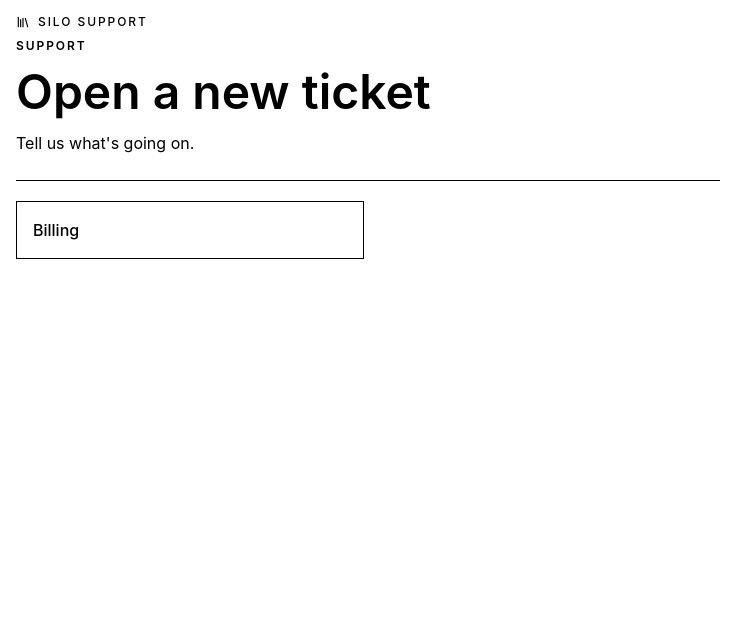
Test: TKNew › walks category → form → submit → confirmation with tracking number
The width and height of the screenshot is (737, 638).
Check: the text "Billing" is shown, box [33,220,79,240]
# category picker appears after categories load
Click the button "Billing" at (56, 230), box [16,201,364,259]
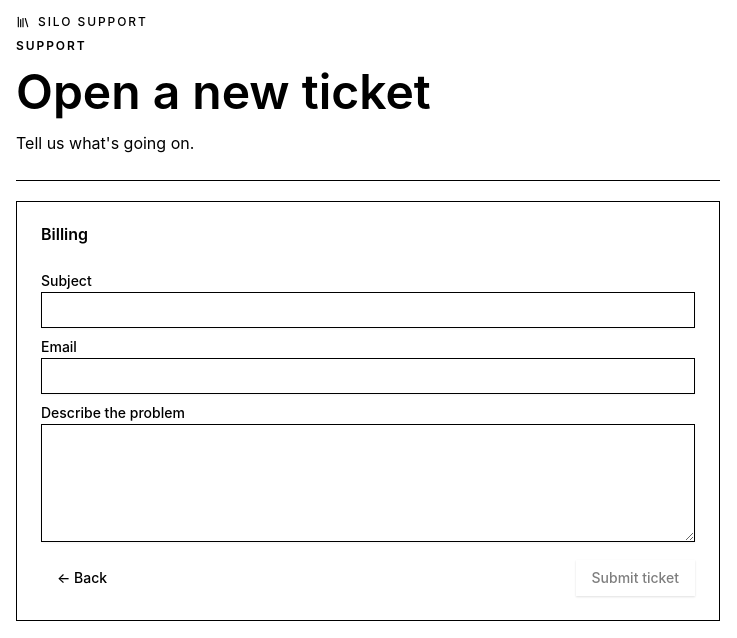
# form (no subcategories for this category, so we jump straight to form)
Type "Need help" into the field labelled "Subject" at (368, 310), box [41,292,695,328]
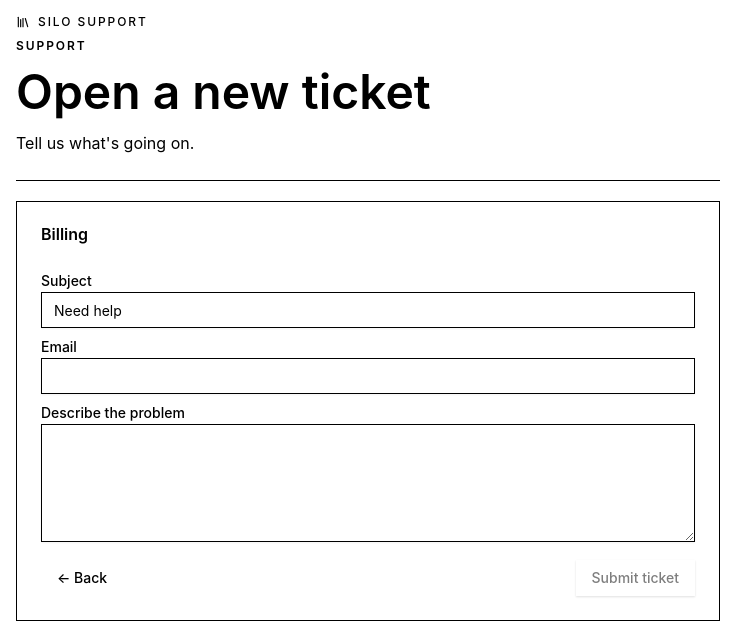
Type "u@example.com" into the field labelled "Email" at (368, 376), box [41,358,695,394]
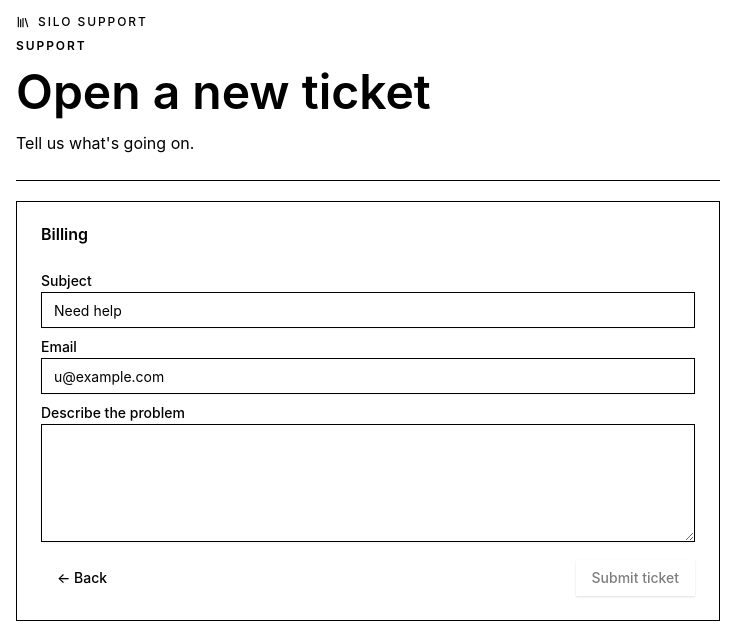
Type "There's a problem." into the text box labelled "Describe the problem" at (368, 483), box [41,424,695,542]
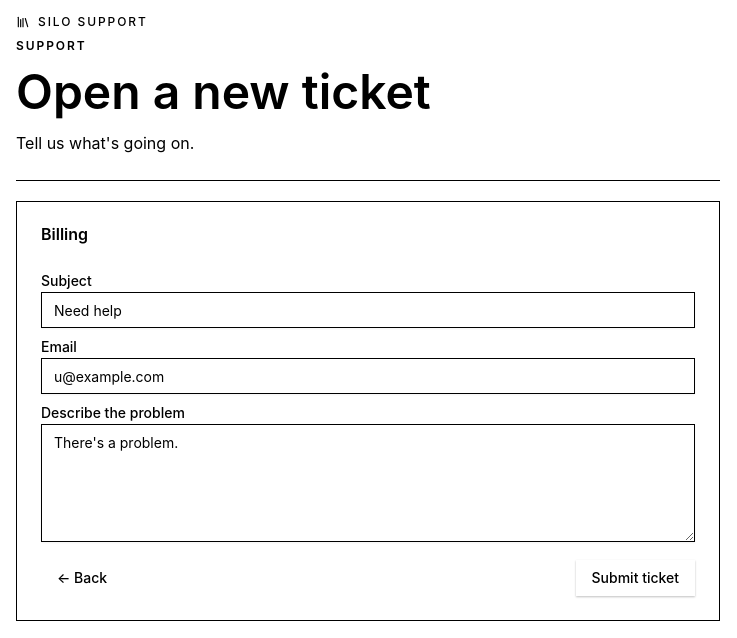
Click the button "Submit ticket" at (635, 578), box [576,560,695,596]
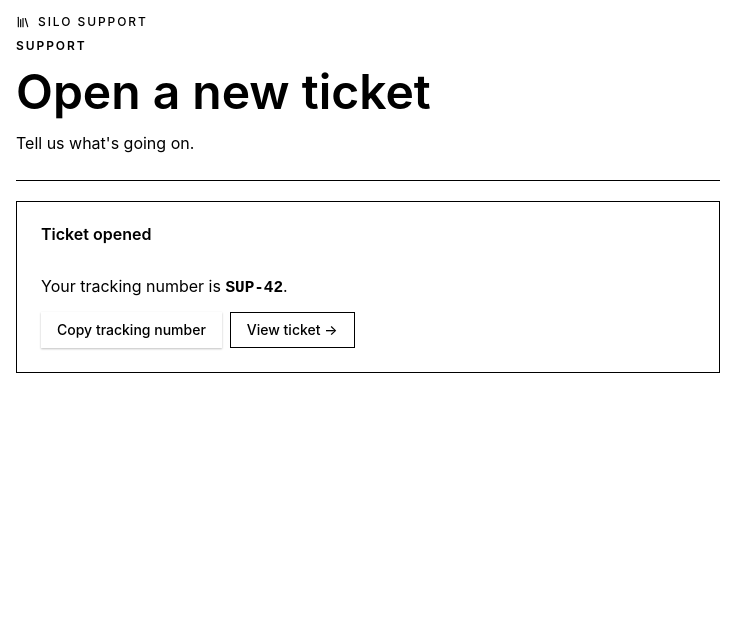
Check: the text "SUP-42" is shown, box [225,279,283,297]
Check: the button "Copy tracking number" is shown, box [41,312,222,348]
